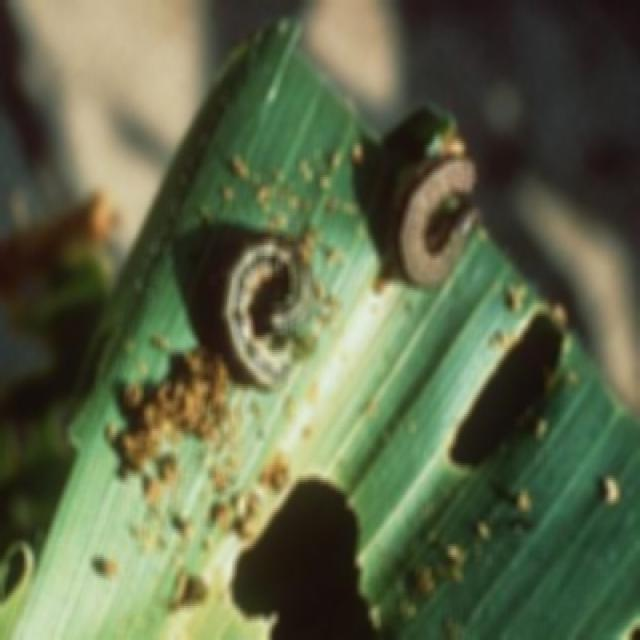army worm: (224, 231, 312, 391), (400, 148, 483, 289)
